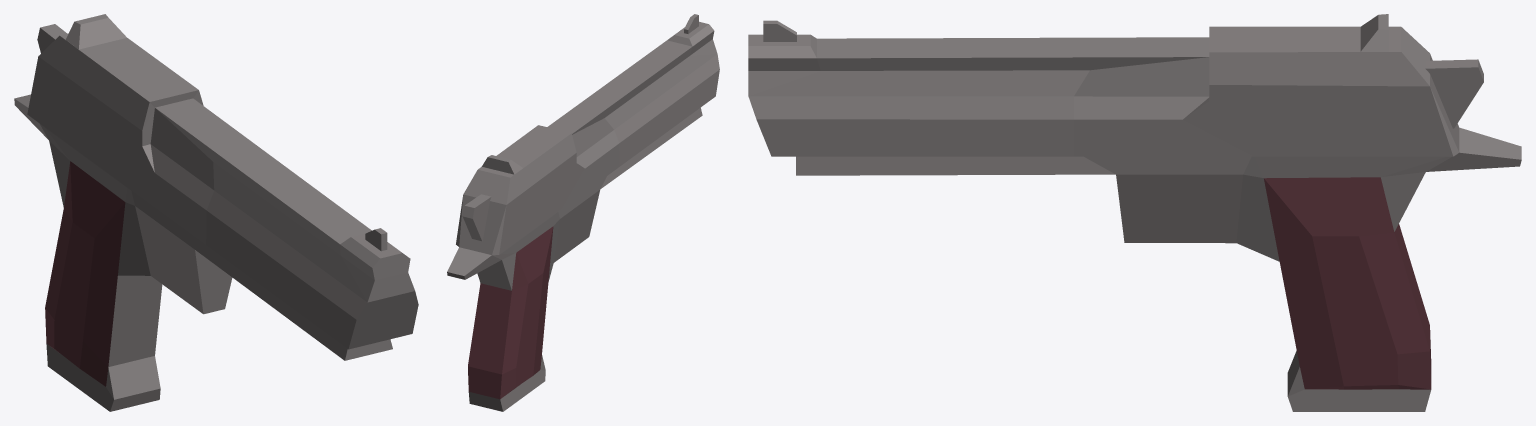
File: SM_Pistol_Eagle.fbx
The picture shows the model from 3 angles, left to right: view 1: azimuth 30°, elevation 25°; view 2: azimuth 150°, elevation 25°; view 3: azimuth 270°, elevation 25°; orthographic projection. The views are drawn at different scales.
Visible parts, largest first — view 1: SM_Pistol_Eagle; view 2: SM_Pistol_Eagle; view 3: SM_Pistol_Eagle.
Boxes of the visible parts, x1,y1,x2,y2 form: SM_Pistol_Eagle: [14, 14, 418, 411]; SM_Pistol_Eagle: [447, 14, 719, 411]; SM_Pistol_Eagle: [748, 14, 1521, 411].
Bounding box in the file's own units: 0.0276 × 0.1463 × 0.272.
